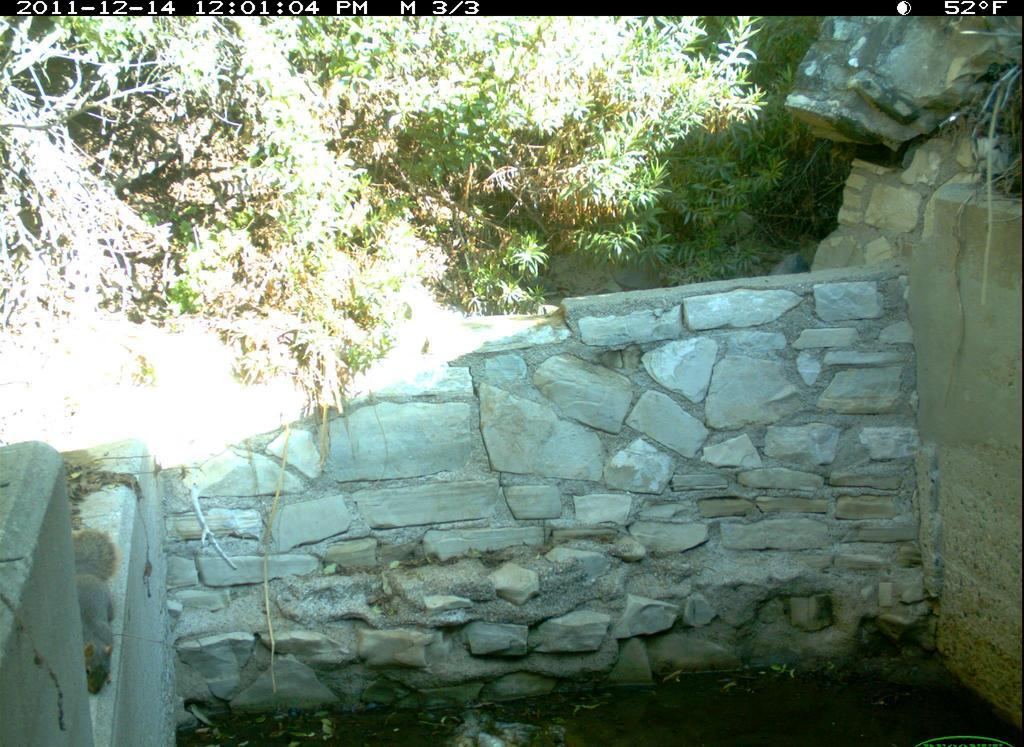squirrel: (58, 524, 146, 706)
